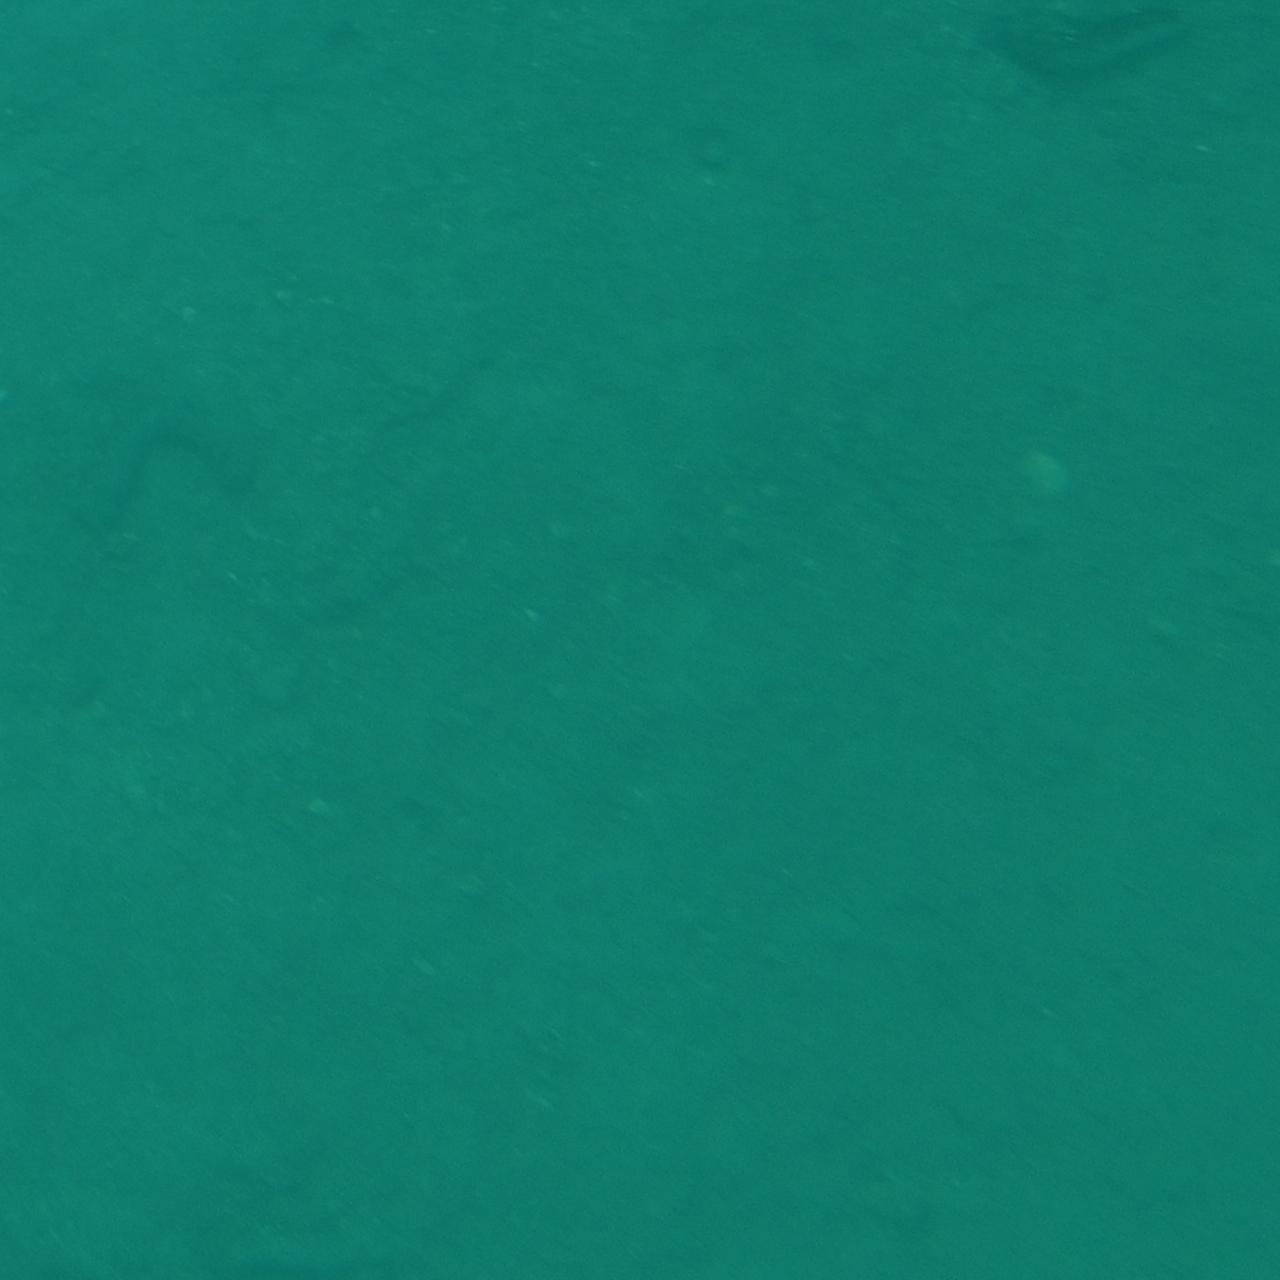Holothuria tubulosa: (53, 397, 298, 519), (220, 1178, 508, 1280), (982, 0, 1227, 102)
